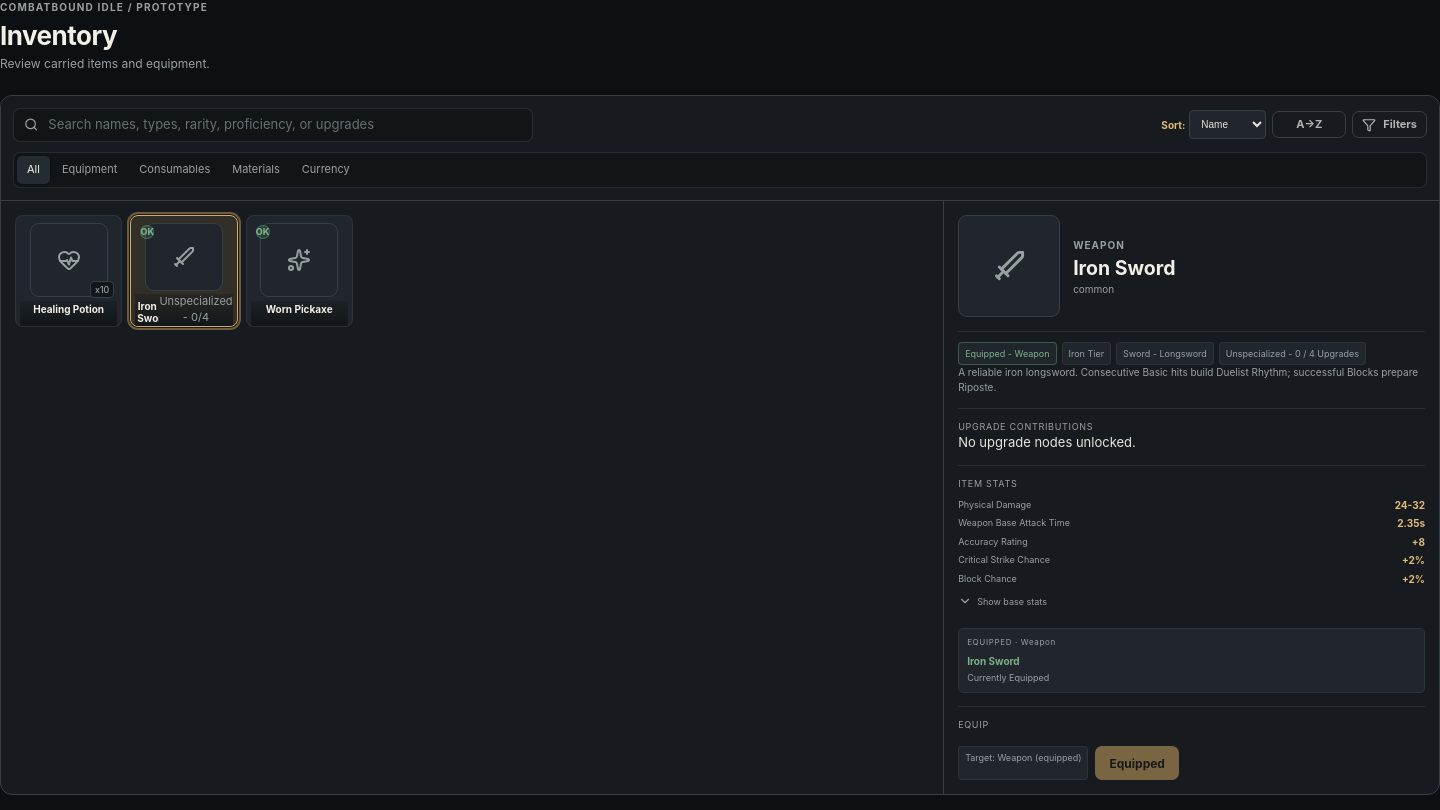
Test: Phase 4 inventory and debug UI › shows results only for search or advanced filters and changes sort options by category
Expected: the text "results" is not shown
Click the tab "Equipment".
click(90, 170)  # box [52,156,127,184]
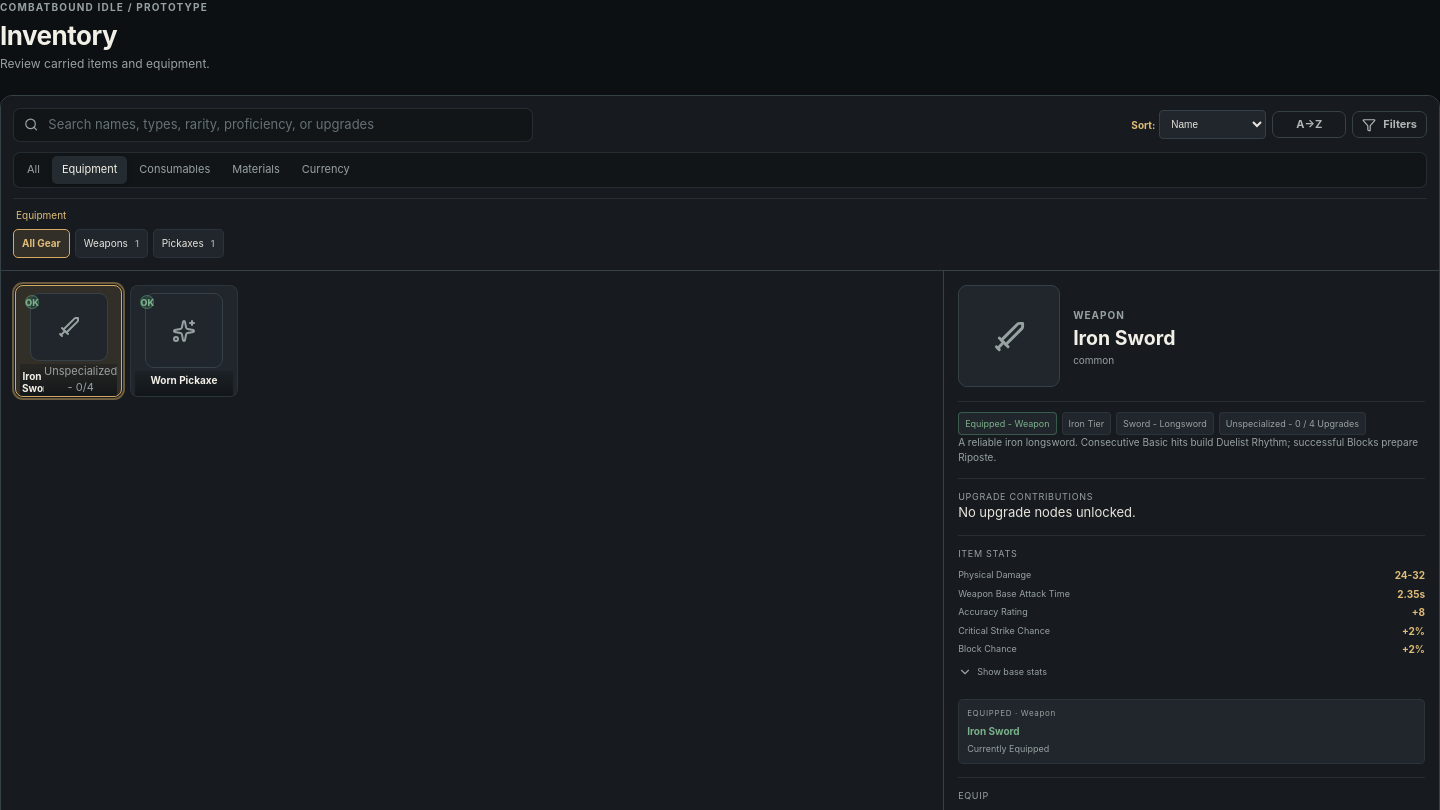
Expected: the text "results" is not shown
Click the tab "Materials".
click(256, 170)  # box [222,156,290,184]
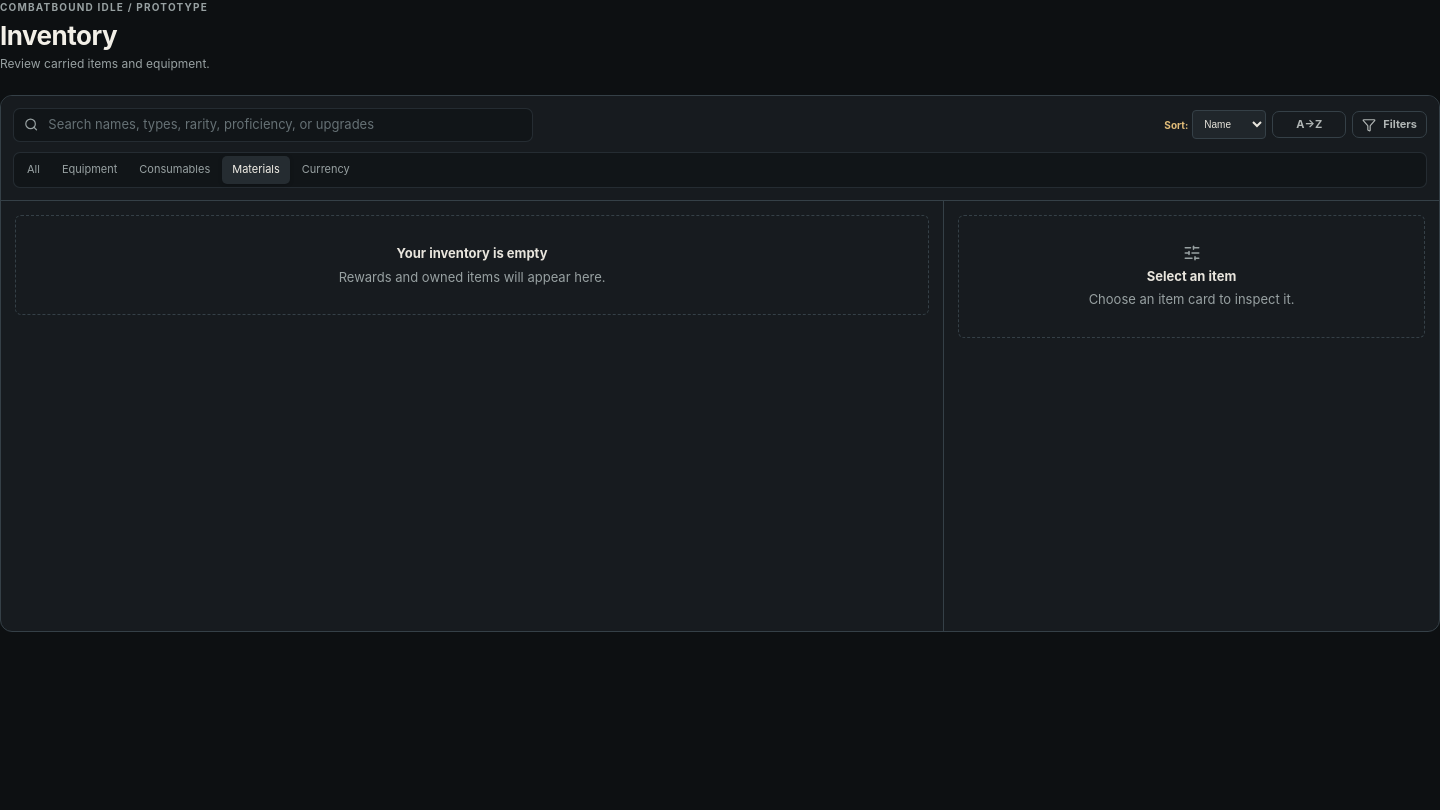
Click the tab "All".
click(33, 170)  # box [17,156,50,184]
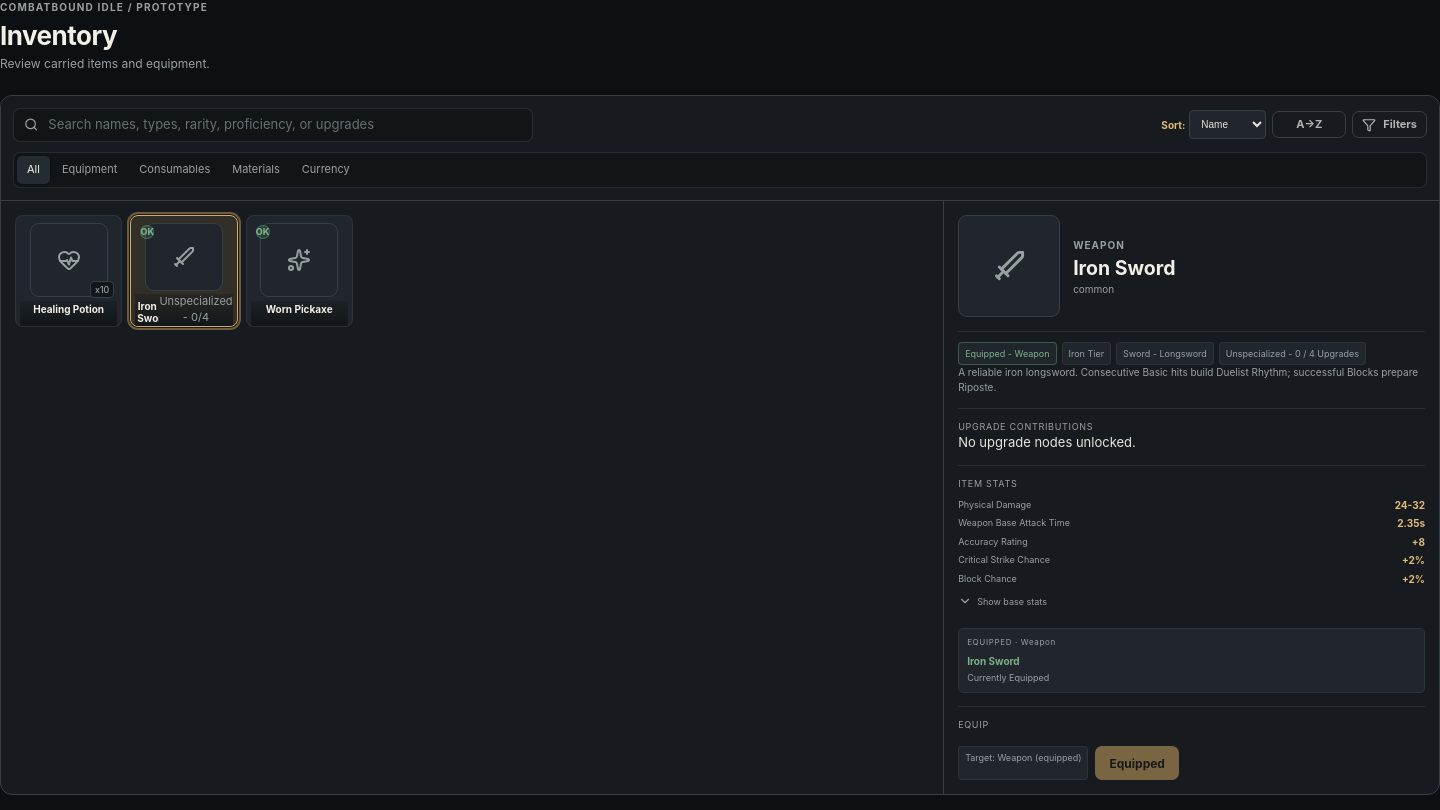
Type "Iron" into the field named "Search inventory".
click(284, 125); type("Iron")  # box [46,114,522,135]
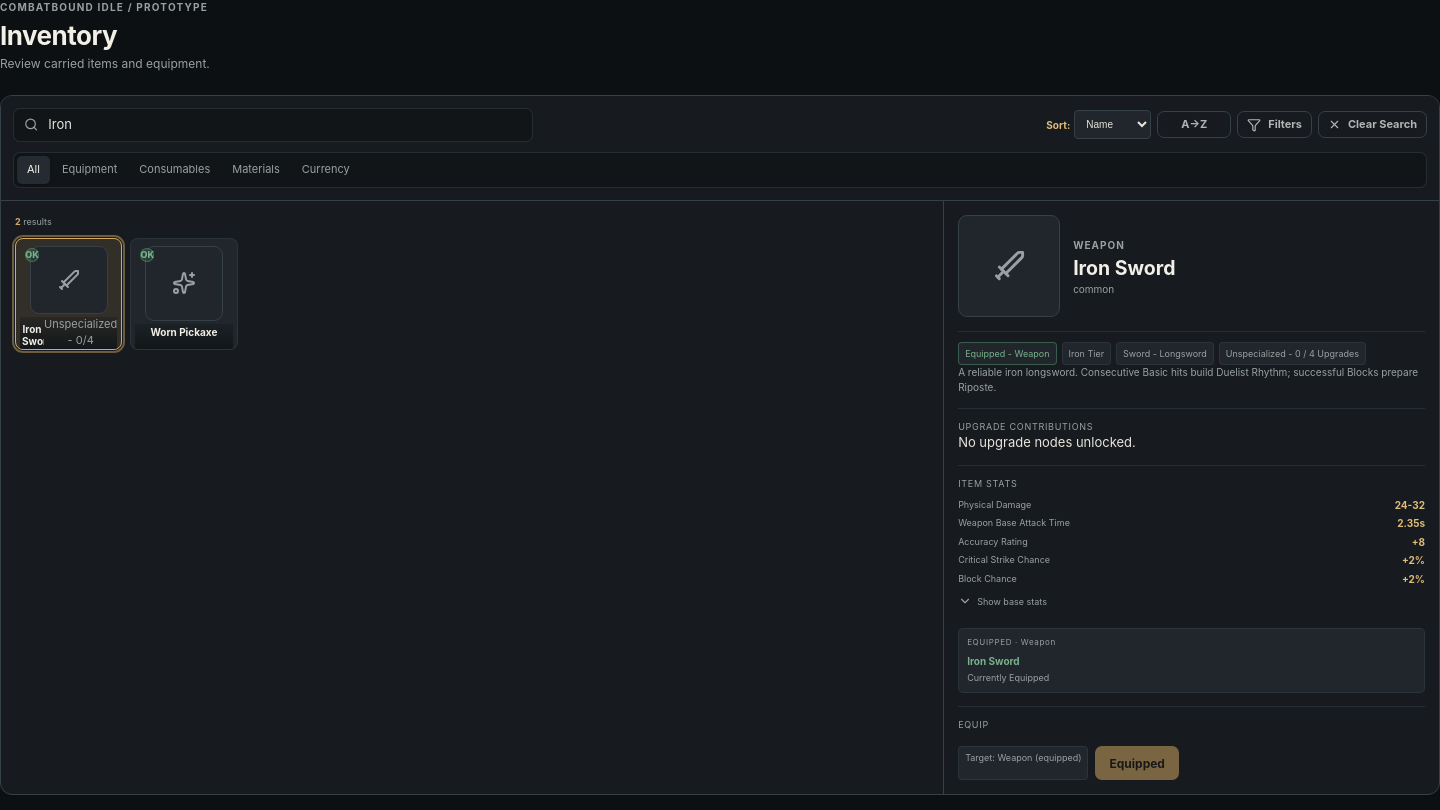
Result: the text "2 results" is shown at [15,215,52,228]
